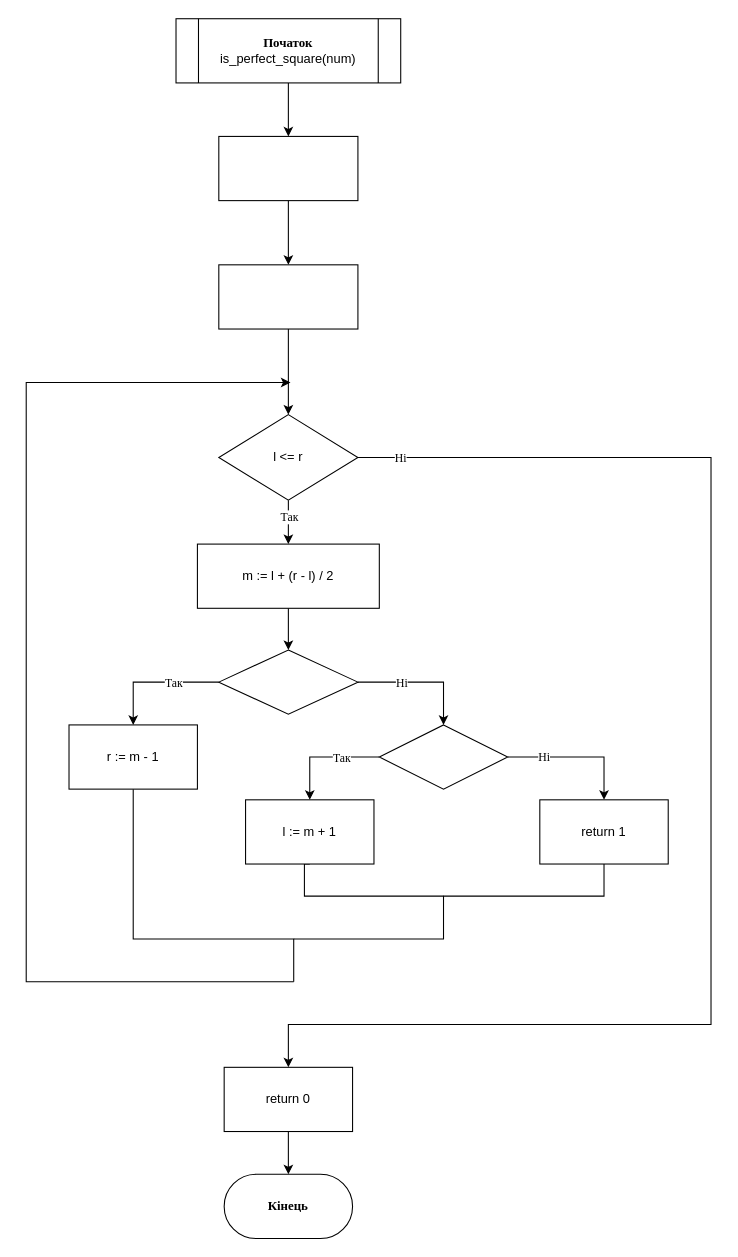
Image size: 738x1257. Some labels were removed from this diagram. The shapes that lost their labels are listed below. From the top down, each one's centre as x and y in pixels, then its label:
At point (288, 168): "l := 1".
At point (288, 296): "r := num".
At point (288, 681): "m * m > num".
At point (443, 756): "m * m < num".
